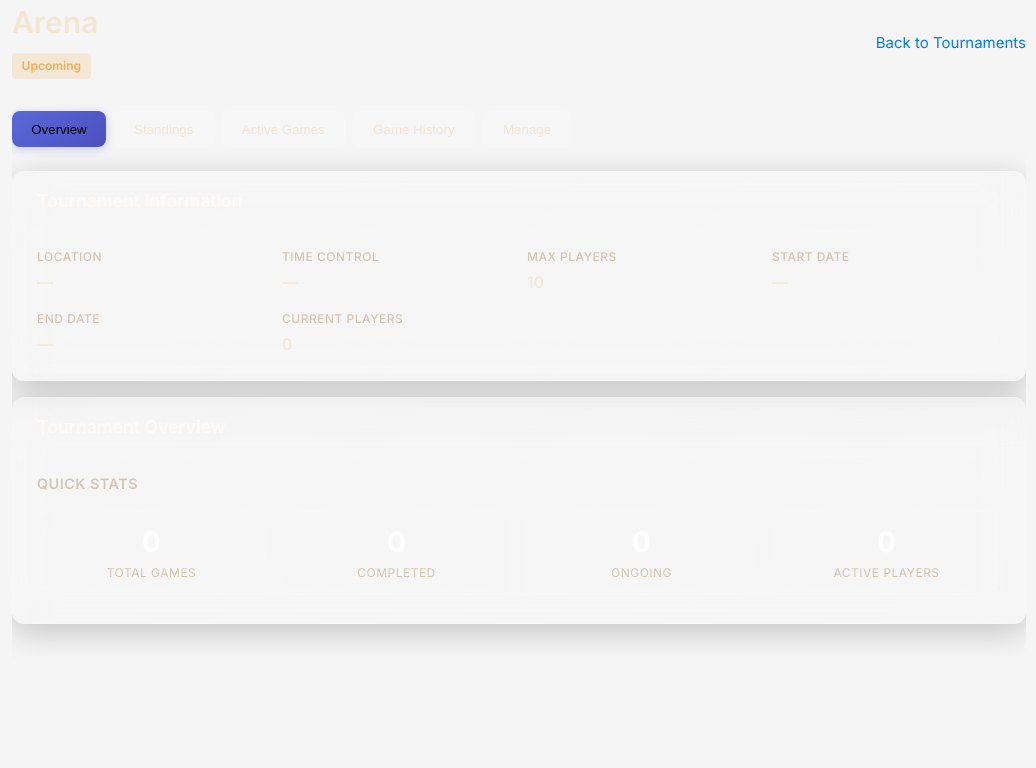
it: detail management tab › shows request failures and keeps the original selection
Click the button "Manage".
click(527, 129)  # box x1=483 y1=111 x2=571 y2=147
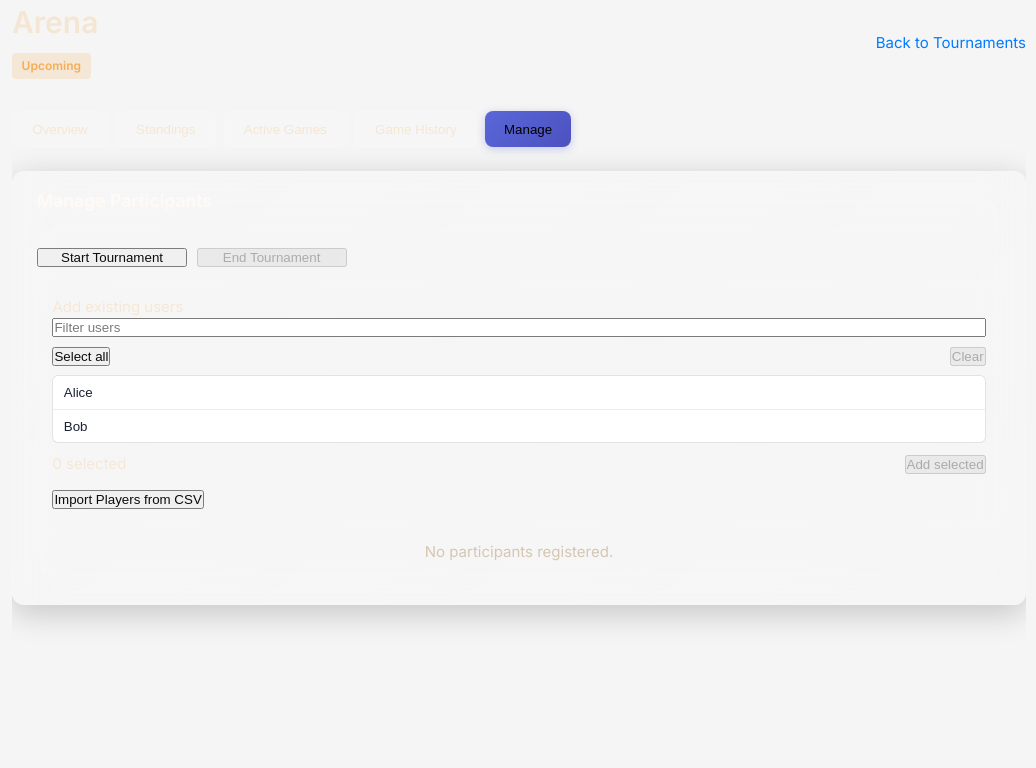
Check: the option "Alice" is shown, box x1=53 y1=376 x2=985 y2=410
Click the button "Select all".
click(81, 356)  # box x1=52 y1=347 x2=110 y2=366
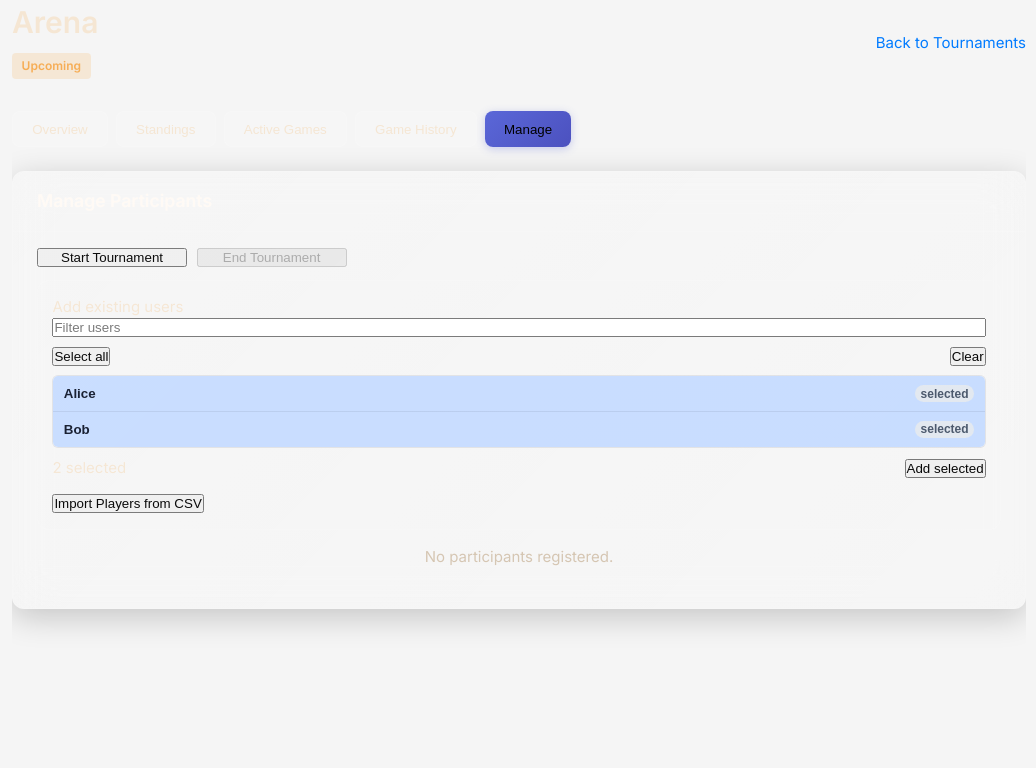
Click the button "Add selected".
click(945, 469)  # box x1=904 y1=459 x2=986 y2=478
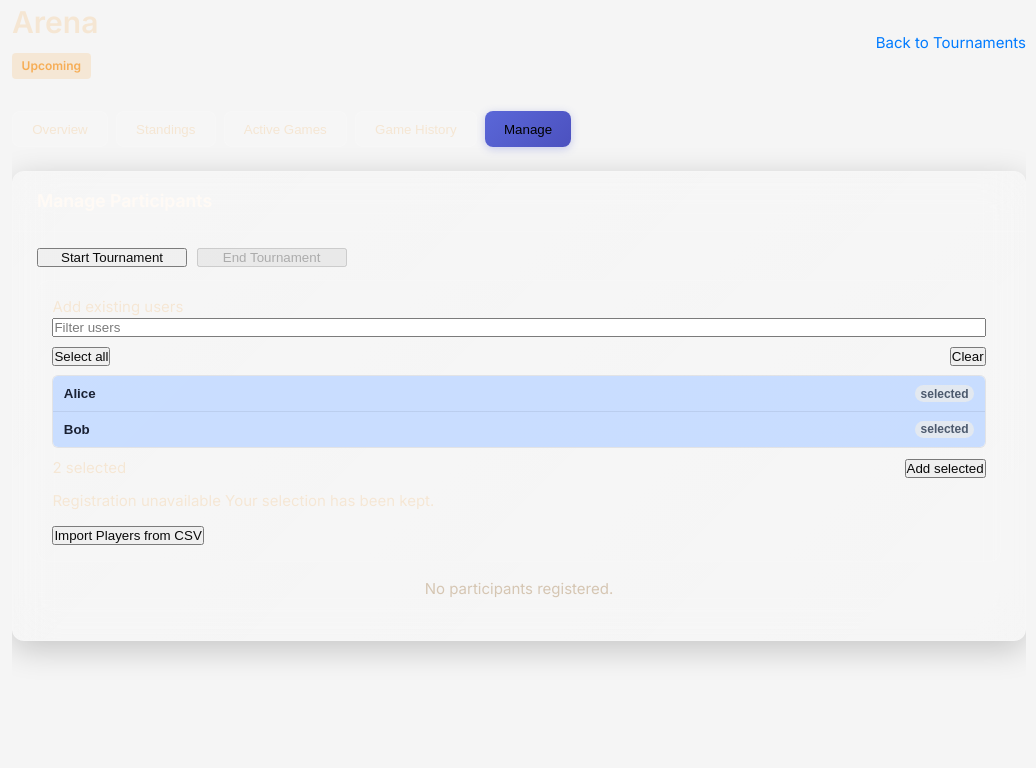
Check: the text "2 selected" is shown, box x1=52 y1=457 x2=126 y2=480
Check: the message shows "Registration unavailable", box x1=52 y1=490 x2=221 y2=510
